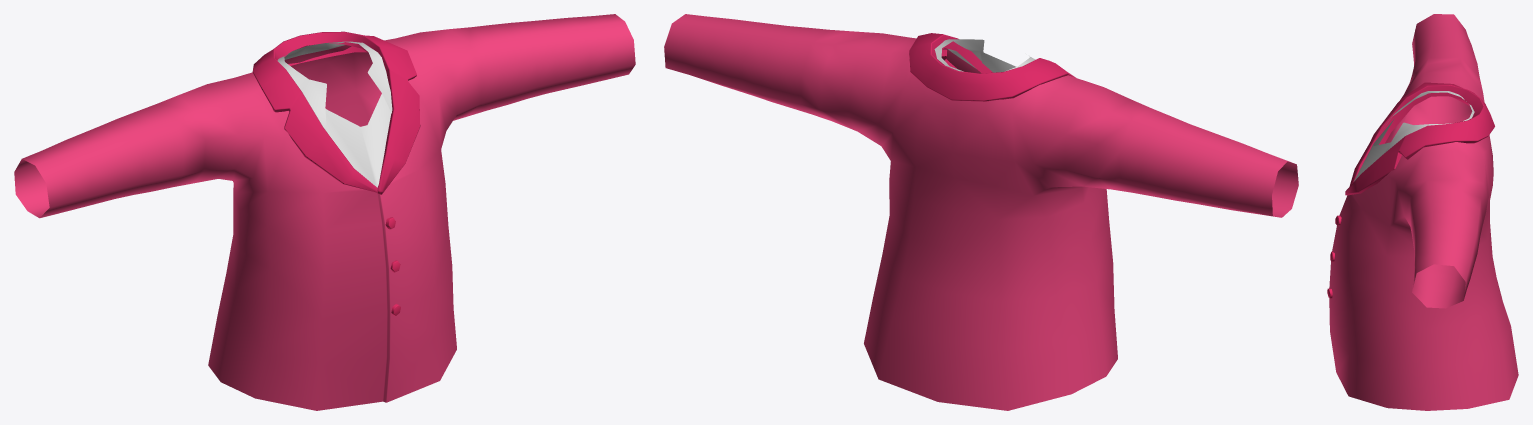
The model's file is Outerwear_Pink_003.glb.
3 renders of one model, left to right at view 1: azimuth 30°, elevation 25°; view 2: azimuth 150°, elevation 25°; view 3: azimuth 270°, elevation 25°, orthographic. The views are drawn at different scales.
Visible parts, largest first — view 1: Outerwear_Pink_003; view 2: Outerwear_Pink_003; view 3: Outerwear_Pink_003.
Part boxes in pixels (left/top/right/bottom): Outerwear_Pink_003: left=14, top=14, right=635, bottom=410; Outerwear_Pink_003: left=664, top=14, right=1298, bottom=410; Outerwear_Pink_003: left=1327, top=14, right=1518, bottom=410.
Bounding box in the file's own units: 1.29 × 0.6477 × 0.4144.
Materials: 1 (1 with a texture image).
